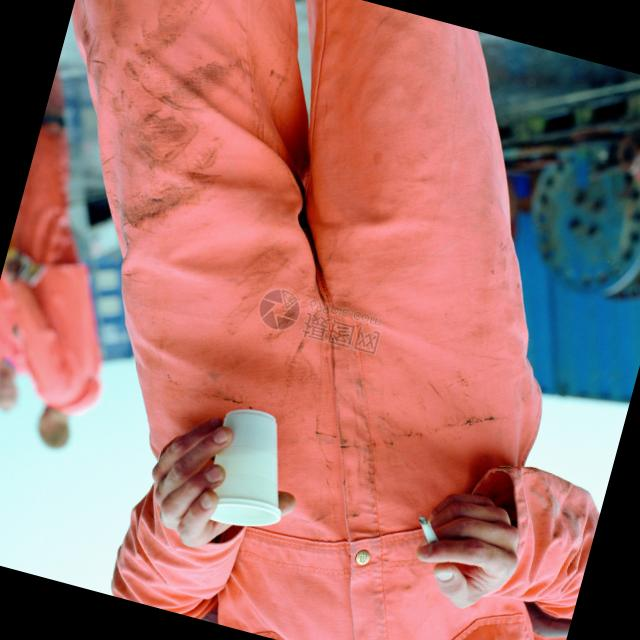smoke: (402, 502, 456, 573)
